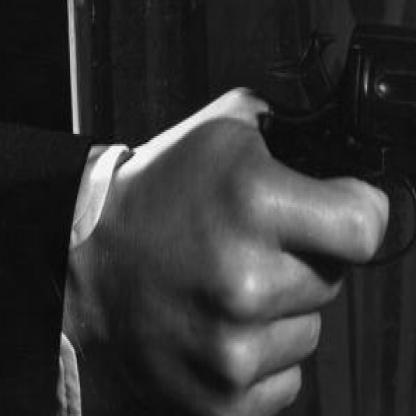gun: (228, 26, 415, 268)
